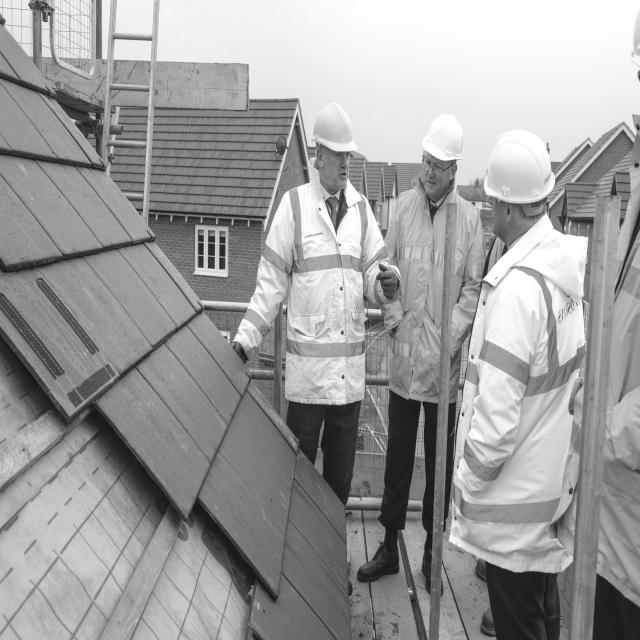face_nomask: (478, 194, 512, 243), (420, 146, 447, 205), (319, 153, 353, 194)
glasses: (420, 156, 448, 178)
hand_glove: (371, 266, 397, 314)
head_helmet: (484, 128, 557, 205), (307, 102, 355, 154), (422, 112, 465, 163)
person: (456, 126, 593, 640), (224, 100, 384, 493), (353, 111, 481, 595)
shoes: (356, 543, 402, 588)
vest: (451, 226, 587, 542), (282, 178, 372, 407), (384, 190, 482, 394), (604, 119, 640, 591)
